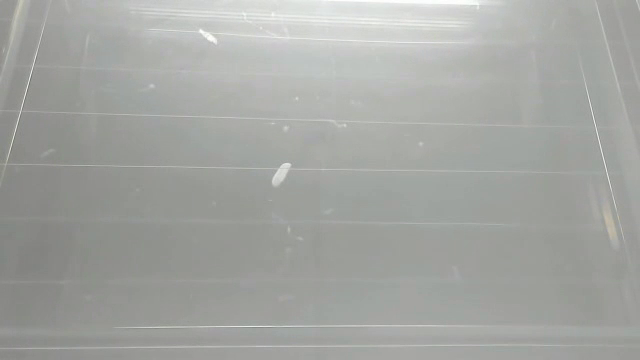alpha: (266, 159, 299, 188), (193, 21, 220, 48)
